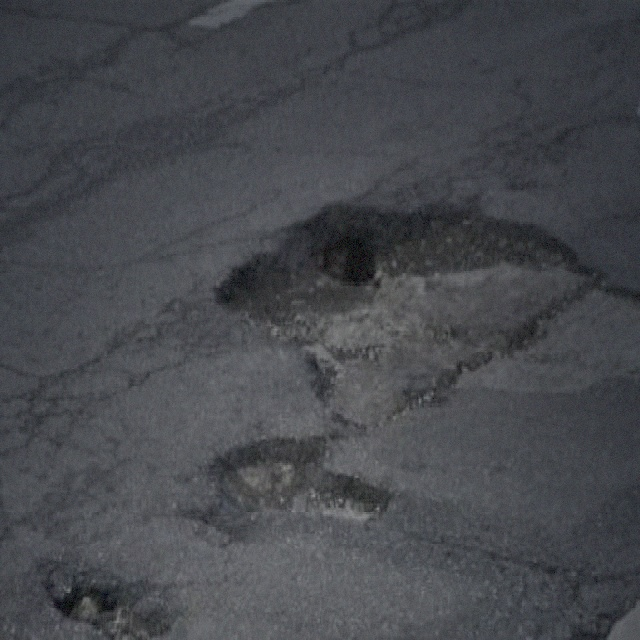pothole: (210, 194, 604, 427), (198, 429, 392, 525), (35, 552, 185, 636)
